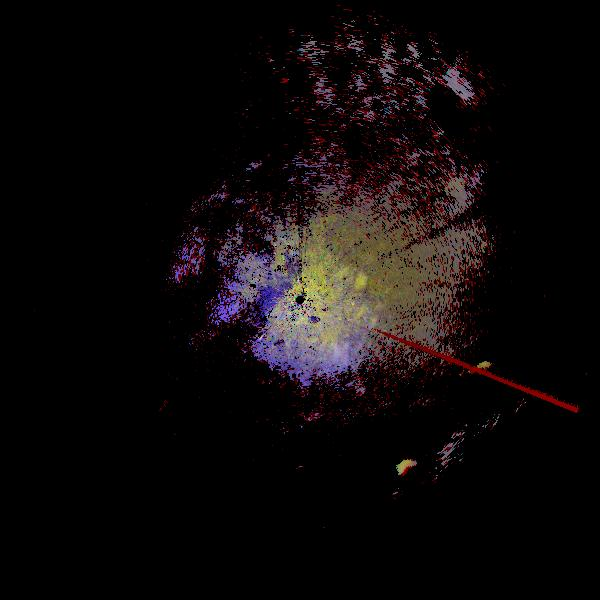roost: (390, 451, 435, 496)
